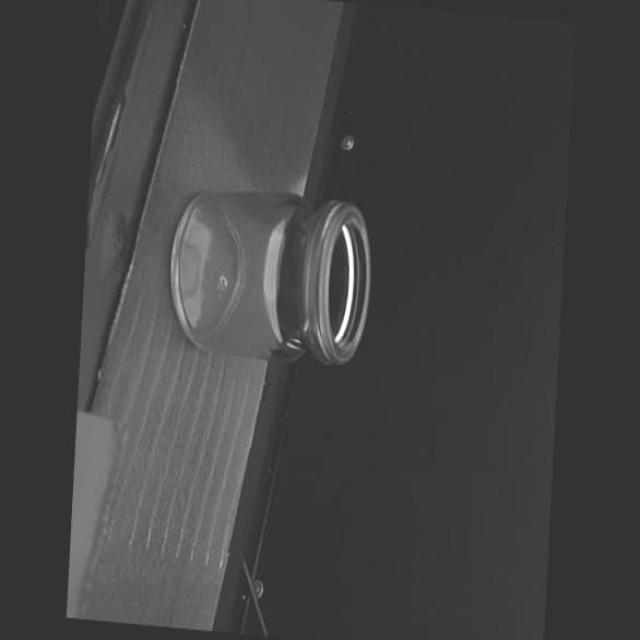defect: (280, 340, 302, 350)
glass: (163, 177, 374, 375)
